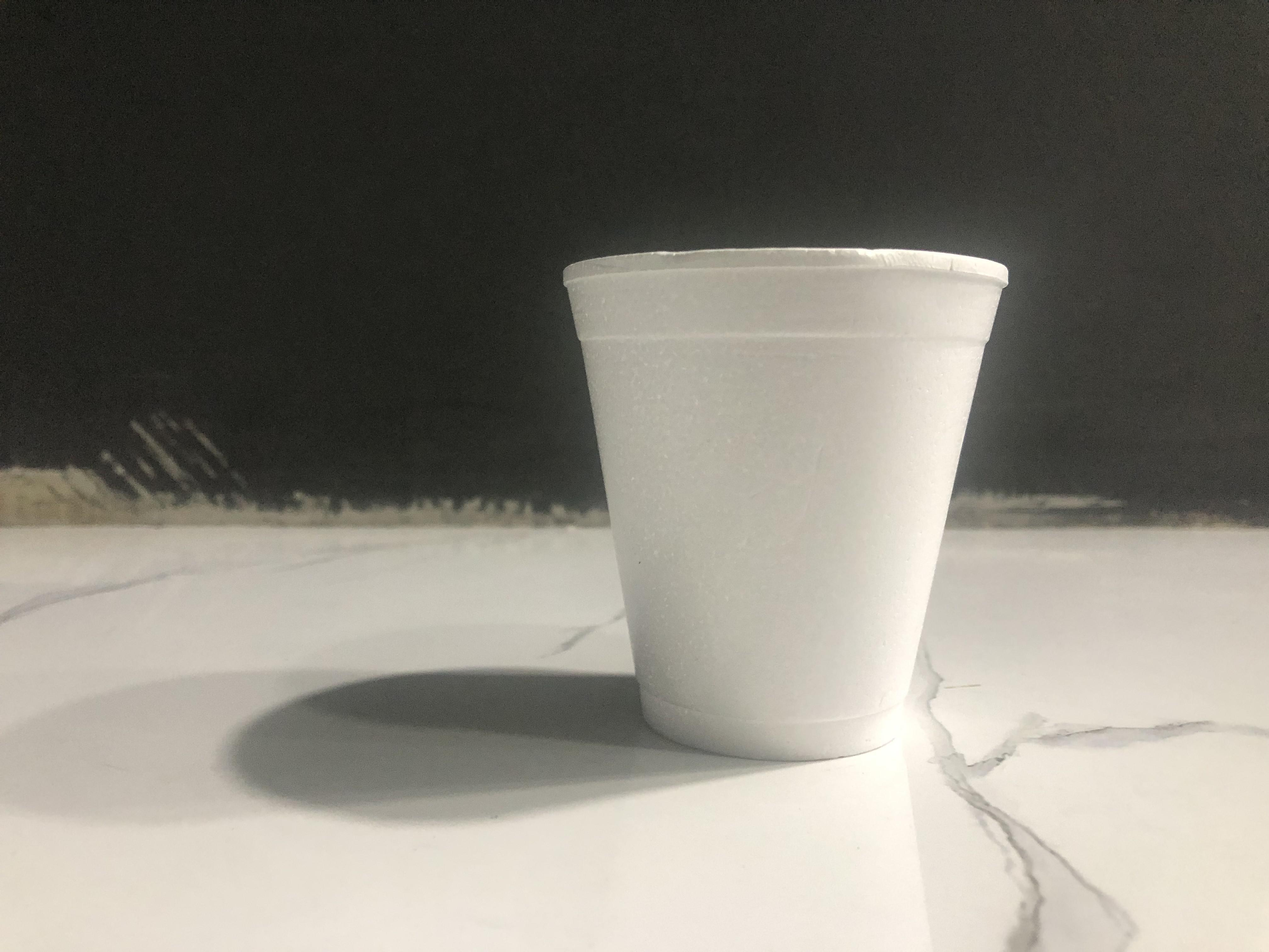cup-disposable: (561, 244, 1013, 762)
